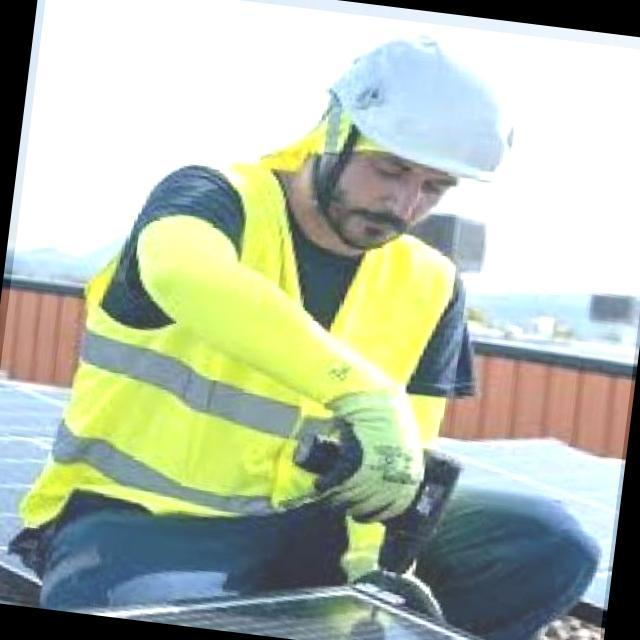Gloves: (300, 377, 432, 536)
Helmet: (301, 17, 531, 190)
Person: (98, 70, 503, 630)
Safety Vest: (97, 142, 457, 633)
